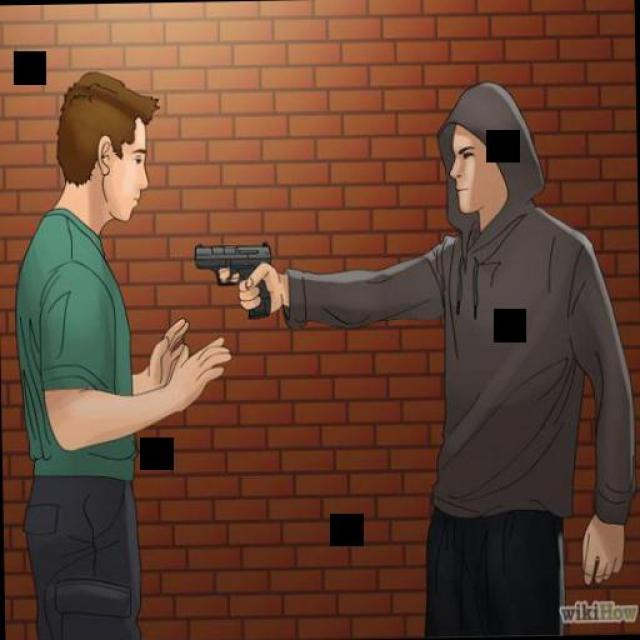gun: (192, 236, 278, 322)
